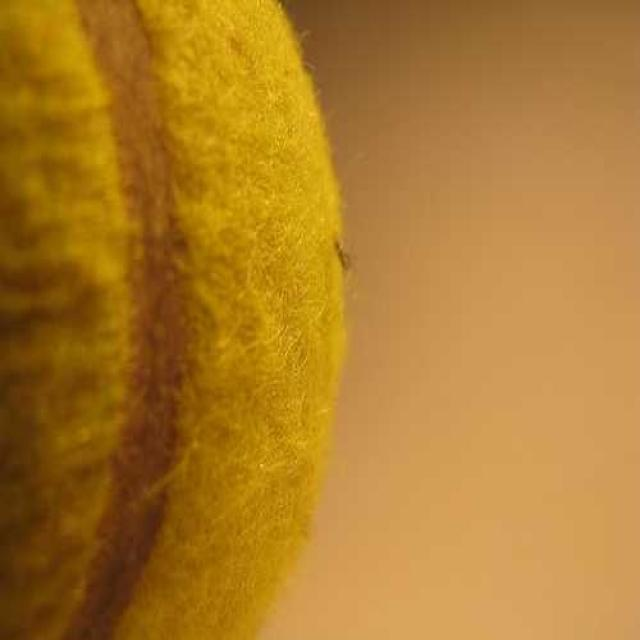Tennis_Ball: (0, 0, 351, 630)
